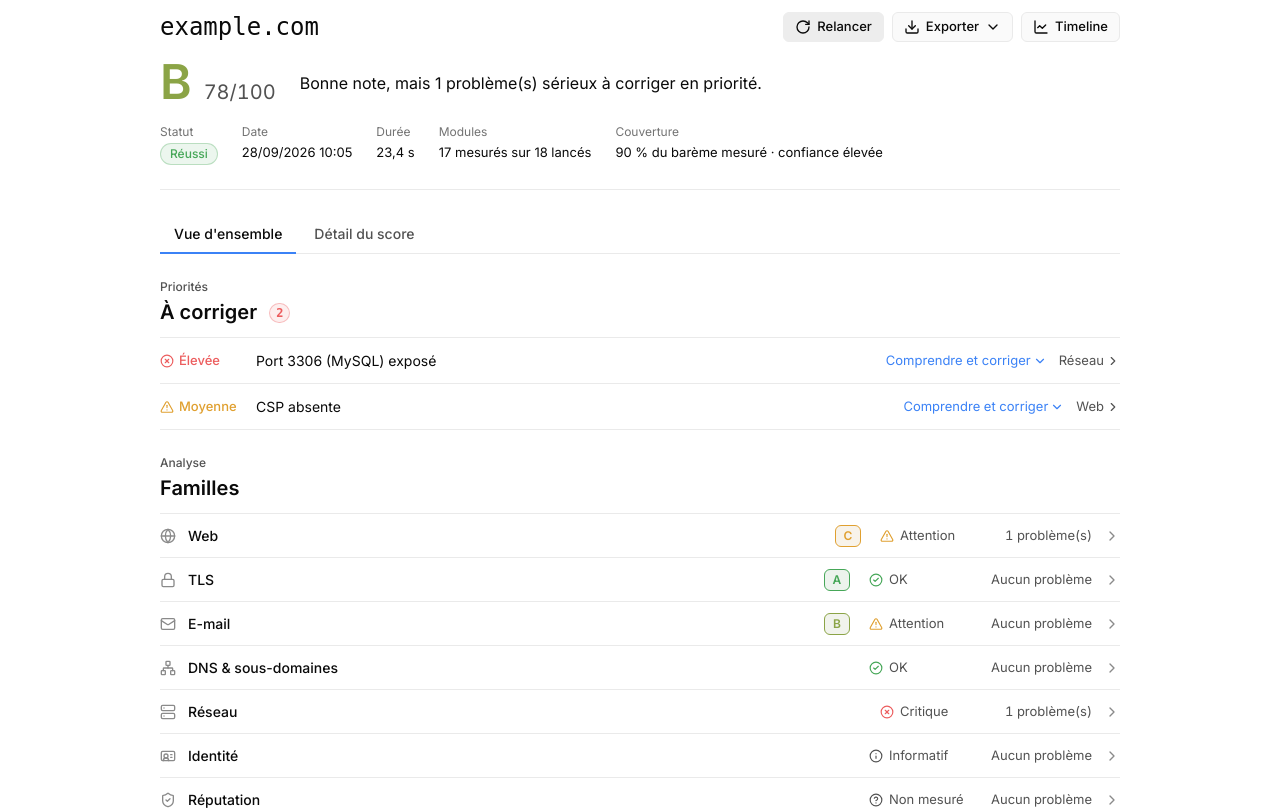
Test case: écran Résultat › signale l'échec d'un export (PDF indisponible)
This screenshot has width=1280, height=812.
expect the heading "example.com" is shown: met, box [160,13,319,41]
Click the button "Exporter". click: (952, 27)
box: [892,12,1013,42]
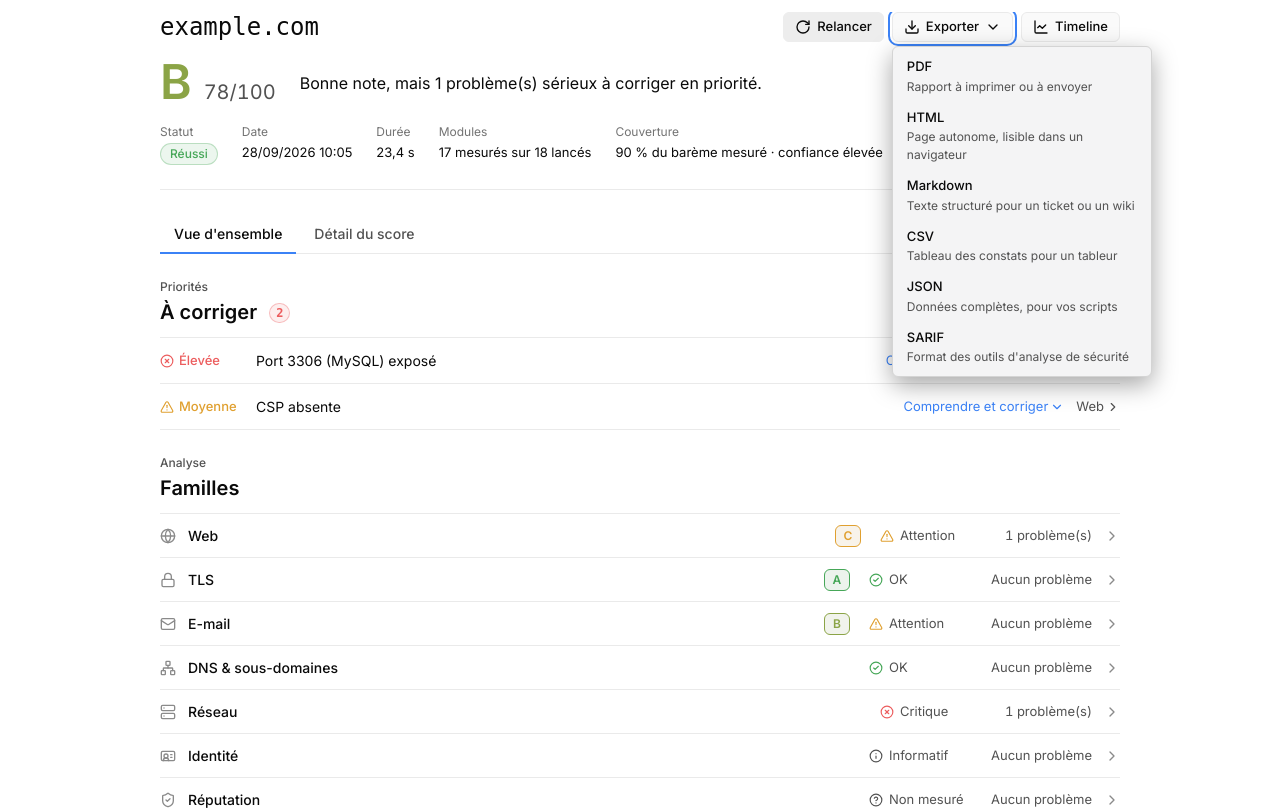
Click the menu item "PDF Rapport à imprimer ou à envoyer". click: (1022, 76)
box: [897,51,1147,102]
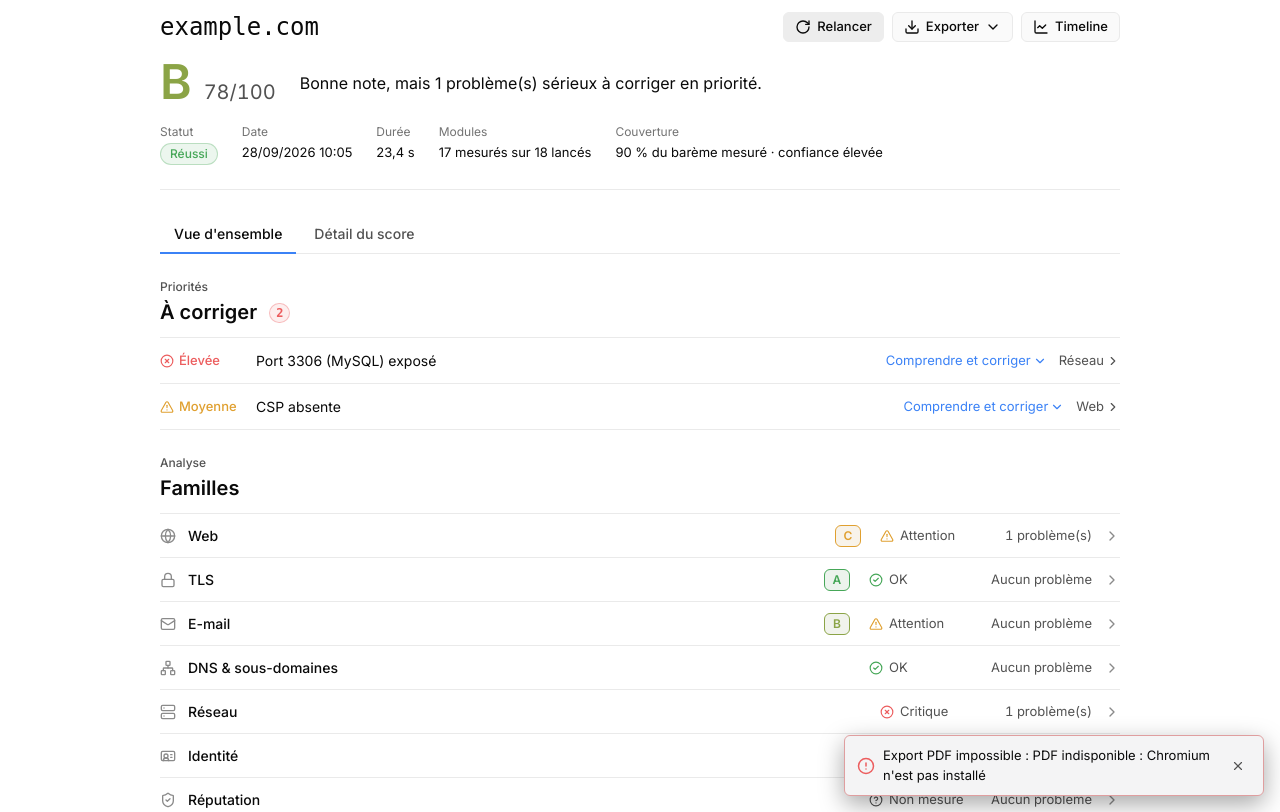
expect the text "Export PDF impossible : PDF indisponible" is shown: met, box [883,747,1210,782]
